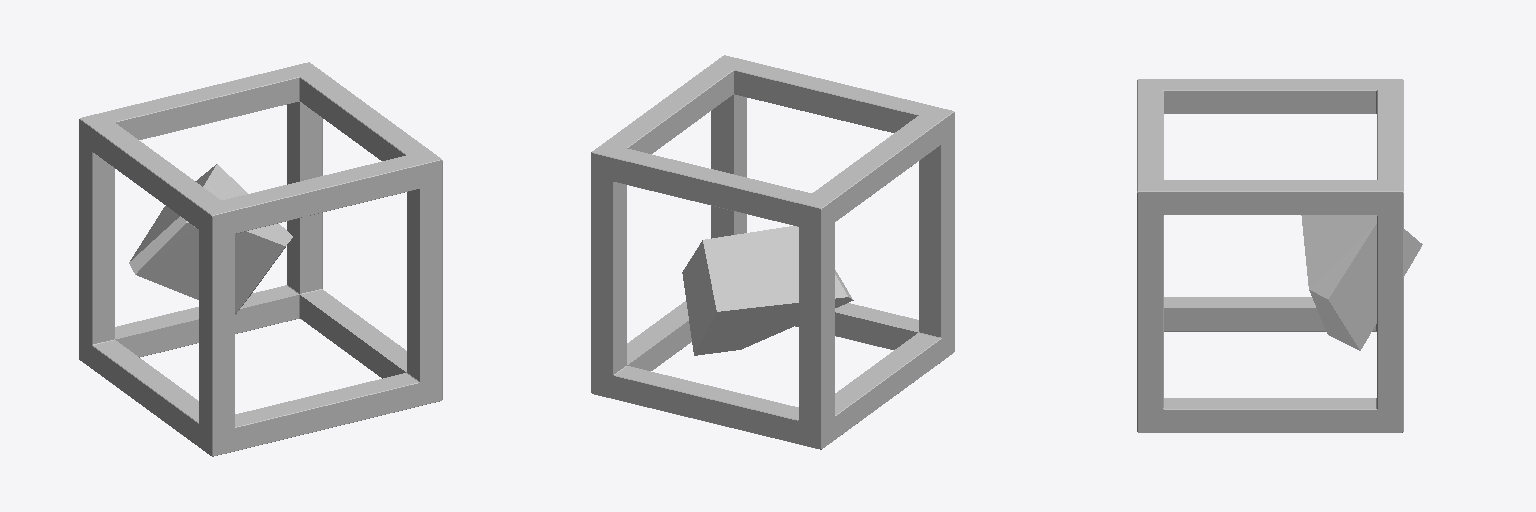
File: TesseractBroken2.obj
The picture shows the model from 3 angles: view 1: azimuth 30°, elevation 25°; view 2: azimuth 150°, elevation 25°; view 3: azimuth 270°, elevation 25°; orthographic projection.
Visible parts, largest first — view 1: Cube.002_Cube.007, Cube.002_cell.006_Cube.002_cell.005; view 2: Cube.002_Cube.007, Cube.002_cell.006_Cube.002_cell.005; view 3: Cube.002_Cube.007, Cube.002_cell.006_Cube.002_cell.005.
Part boxes in pixels (bbox=[...]): Cube.002_Cube.007: bbox=[79, 62, 442, 456]; Cube.002_cell.006_Cube.002_cell.005: bbox=[129, 164, 292, 314]; Cube.002_Cube.007: bbox=[591, 55, 954, 449]; Cube.002_cell.006_Cube.002_cell.005: bbox=[682, 226, 853, 355]; Cube.002_Cube.007: bbox=[1137, 79, 1403, 432]; Cube.002_cell.006_Cube.002_cell.005: bbox=[1301, 215, 1422, 350].
Size of the model in its own units: 2.4 by 2.4 by 2.57.